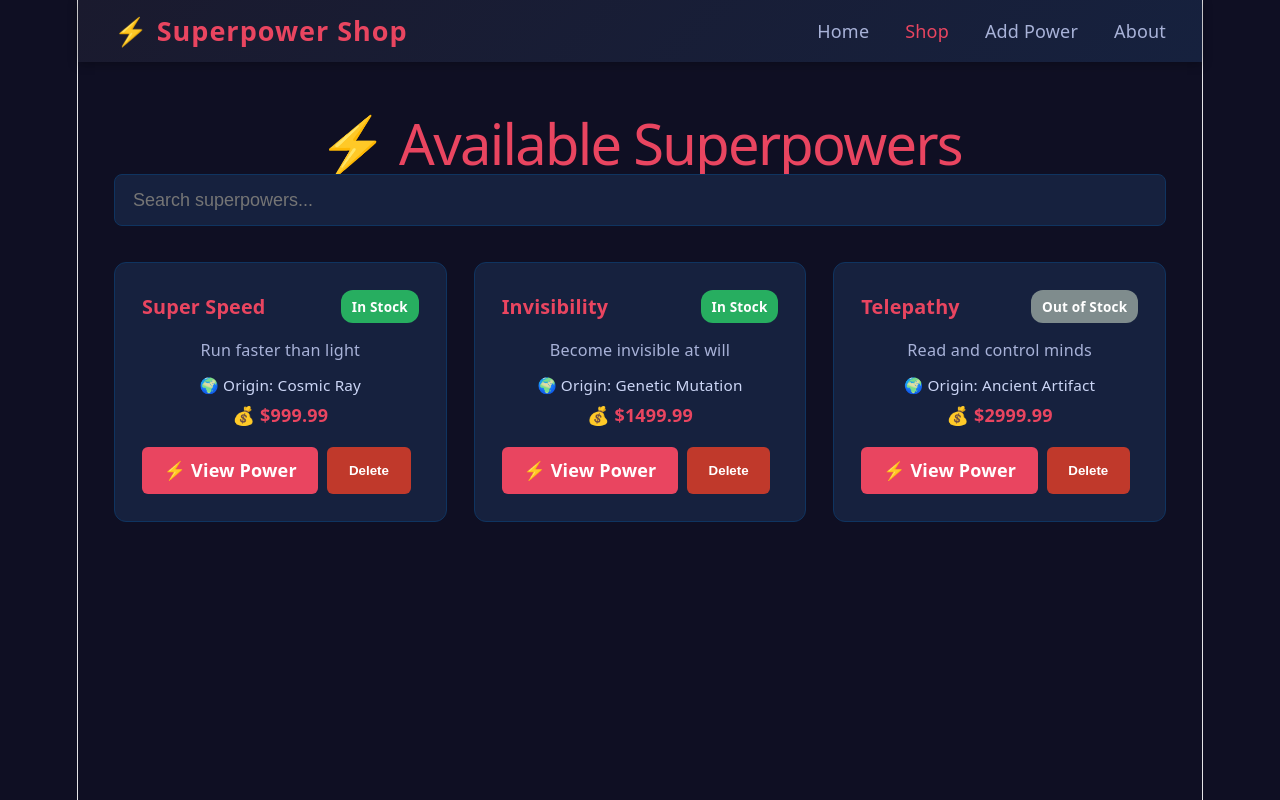
Test: Search Superpowers › search is case insensitive
This screenshot has width=1280, height=800.
Expected: the heading "Super Speed" is shown, [142,294,266,320]
Type "INVISIBILITY" into the field with placeholder "Search superpowers..." at x=640, y=200, box [114,174,1166,226]
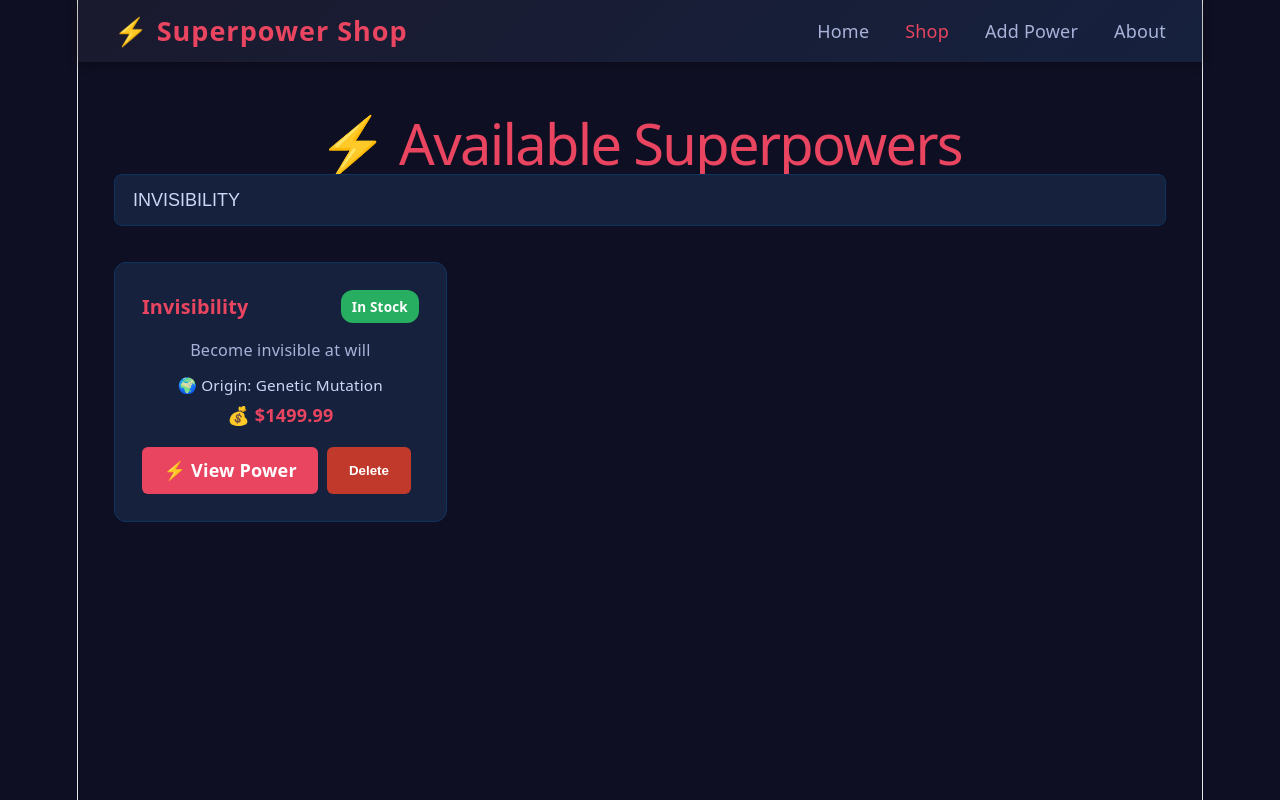
Expected: the heading "Invisibility" is shown, [142,294,248,320]
Expected: the heading "Super Speed" is gone
